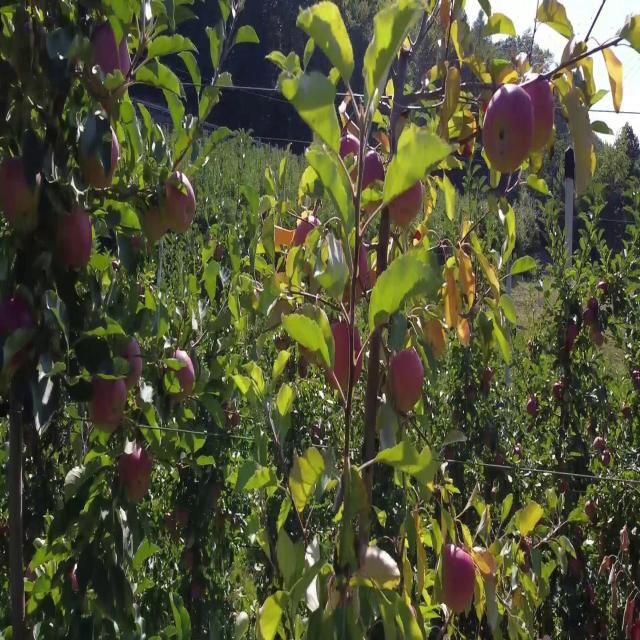apple: (484, 85, 531, 176), (92, 28, 132, 112), (4, 156, 44, 235), (0, 319, 39, 396), (324, 319, 363, 391), (92, 21, 131, 92), (440, 547, 476, 619), (56, 206, 95, 272), (88, 376, 127, 436), (324, 319, 356, 391), (524, 78, 556, 149), (164, 170, 196, 236), (392, 348, 424, 414), (84, 135, 120, 192), (388, 177, 425, 231), (120, 447, 153, 507), (4, 291, 39, 345), (92, 21, 124, 78), (400, 177, 425, 226), (340, 127, 363, 176), (120, 341, 143, 389), (172, 348, 196, 393), (456, 255, 477, 304), (364, 149, 387, 192), (424, 319, 448, 359), (296, 213, 319, 254), (460, 113, 478, 162), (148, 206, 168, 244), (444, 298, 463, 331), (628, 14, 640, 55), (528, 149, 546, 176), (584, 298, 600, 327), (456, 319, 472, 348), (440, 0, 454, 32), (588, 327, 604, 348), (176, 504, 188, 528), (228, 405, 240, 428), (184, 547, 195, 571), (568, 327, 580, 347), (556, 383, 567, 404), (528, 398, 540, 416), (572, 554, 584, 572), (596, 440, 607, 453), (604, 455, 612, 468), (560, 483, 568, 496)
